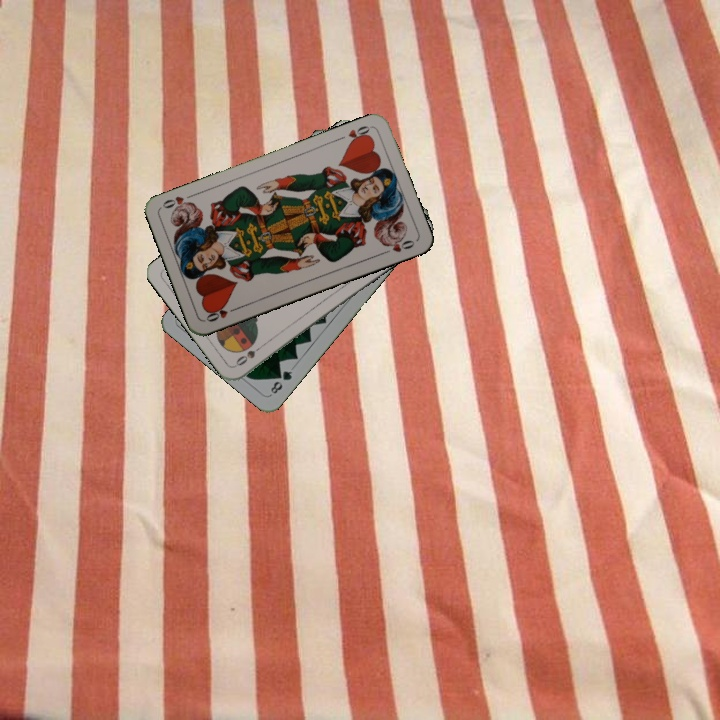G8: (266, 366, 295, 397)
HO: (202, 302, 241, 324), (344, 122, 374, 147)
SO: (231, 340, 267, 369)
